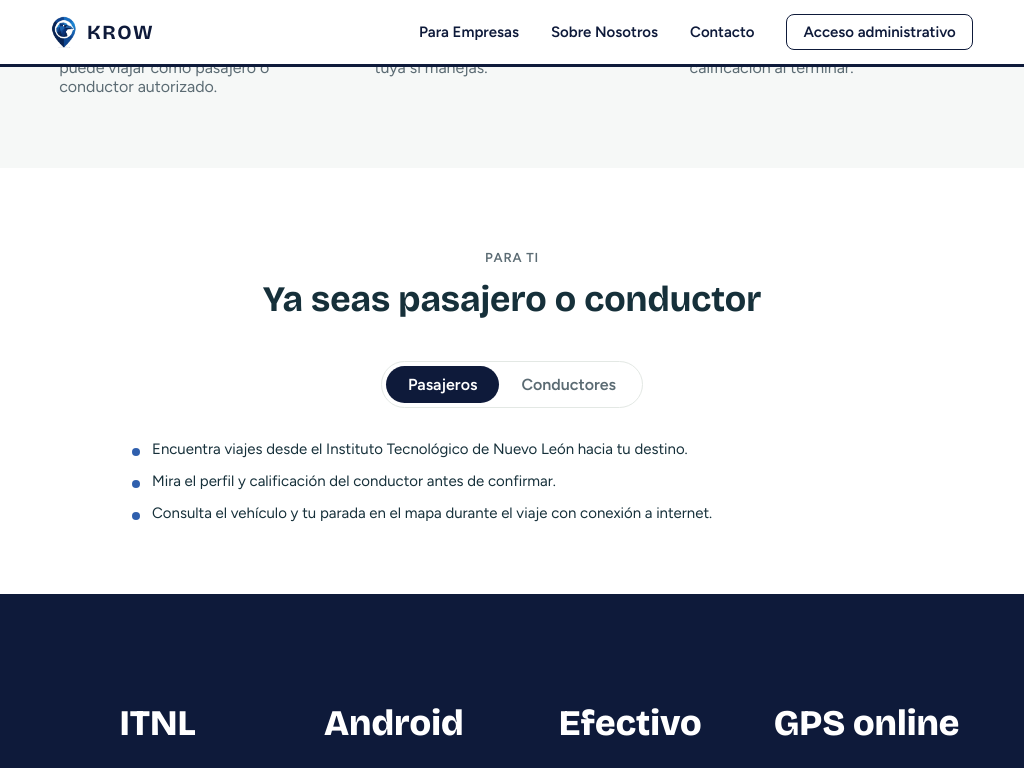
Scenario: landing integrada de Persona 2 › conserva las secciones, enlaza al login y comunica el piloto sin cifras inventadas ni rutas rotas
(page scrolled)
What coordinates should you click on to do the following:
click the button "Conductores"
I would click on:
 (569, 384)
Its box is [499,366,638,403].
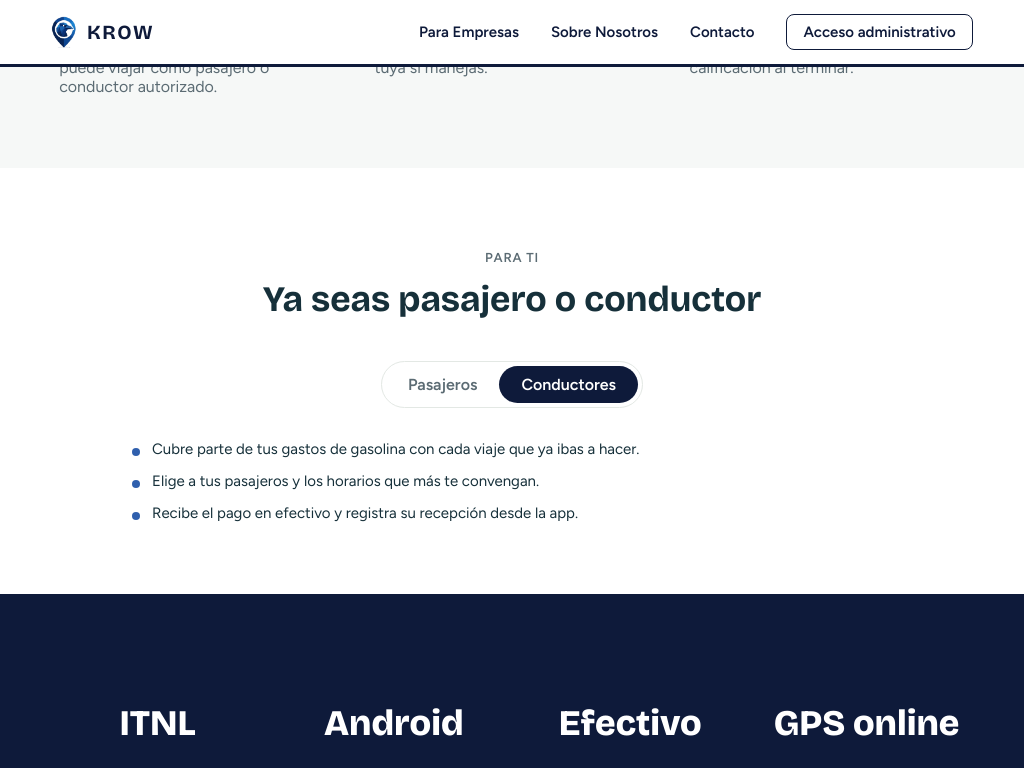
Now the list item "Recibe el pago en efectivo y registra su recepción desde la app." is shown, box [132,504,578,522]
